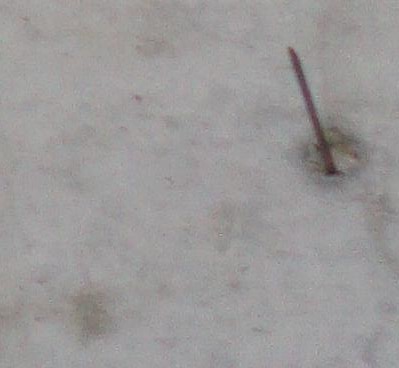Exposed reinforcement: (287, 45, 336, 174)
Spalling: (301, 126, 363, 182)
